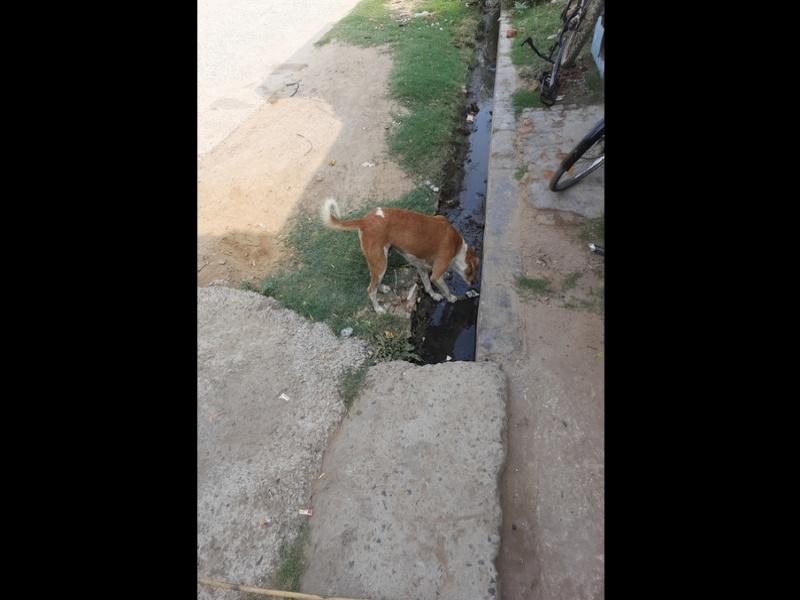dog: (321, 195, 483, 308)
